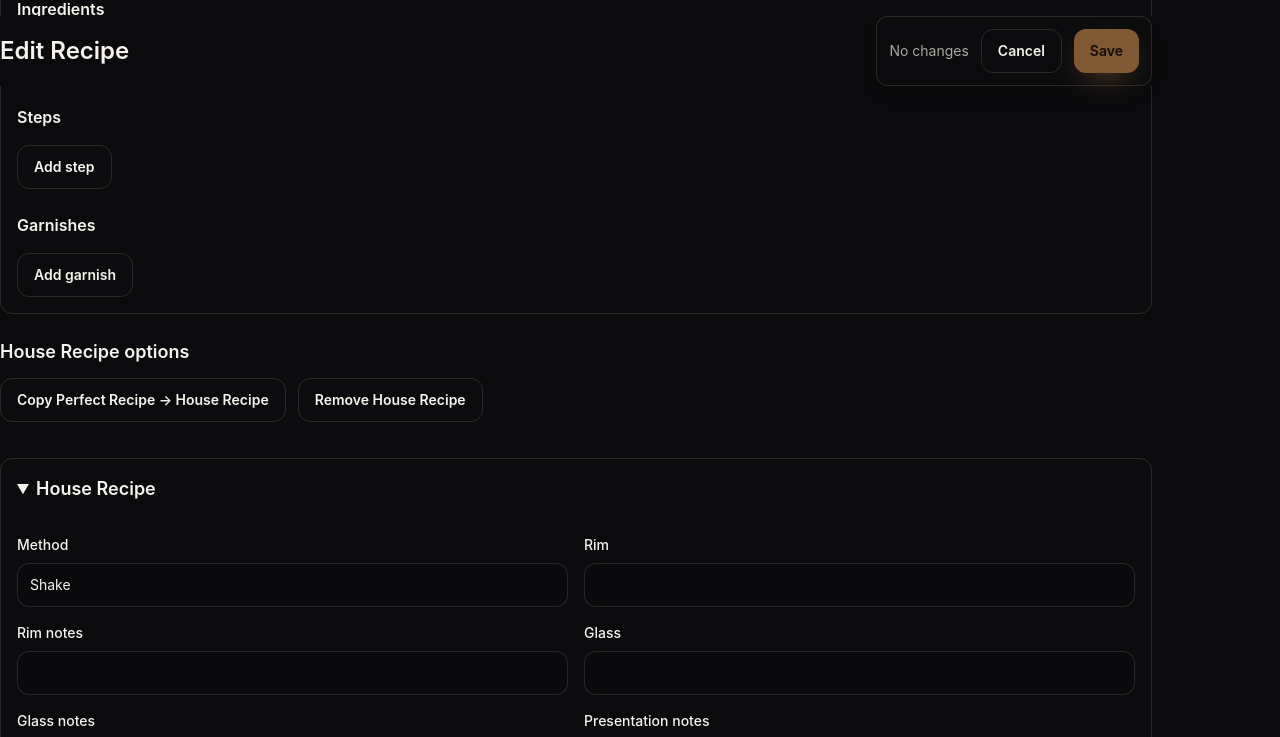
Test case: recipe editor › marks an identical replacement dirty until Save
(page scrolled)
Click the button "Copy Perfect Recipe → House Recipe".
click(143, 400)  # box top-left (0, 378), bottom-right (286, 422)
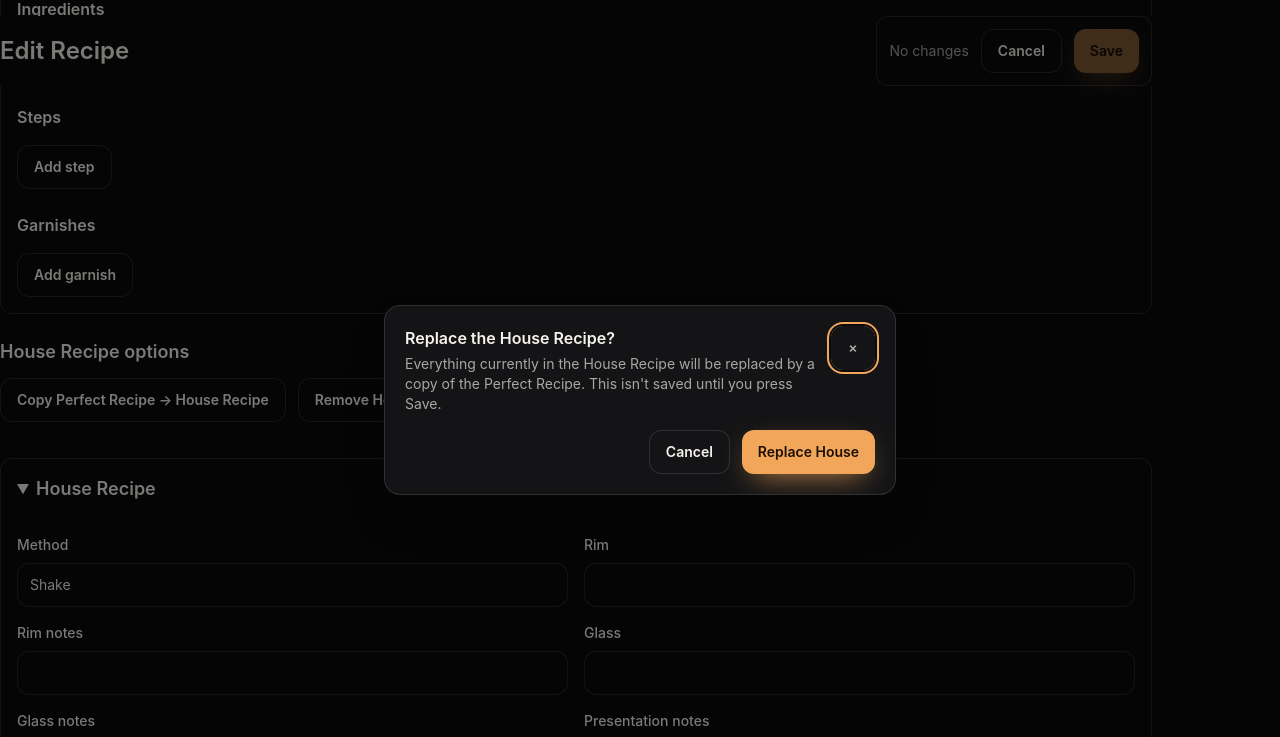
Click the button "Replace House".
click(808, 452)  # box top-left (742, 430), bottom-right (875, 474)
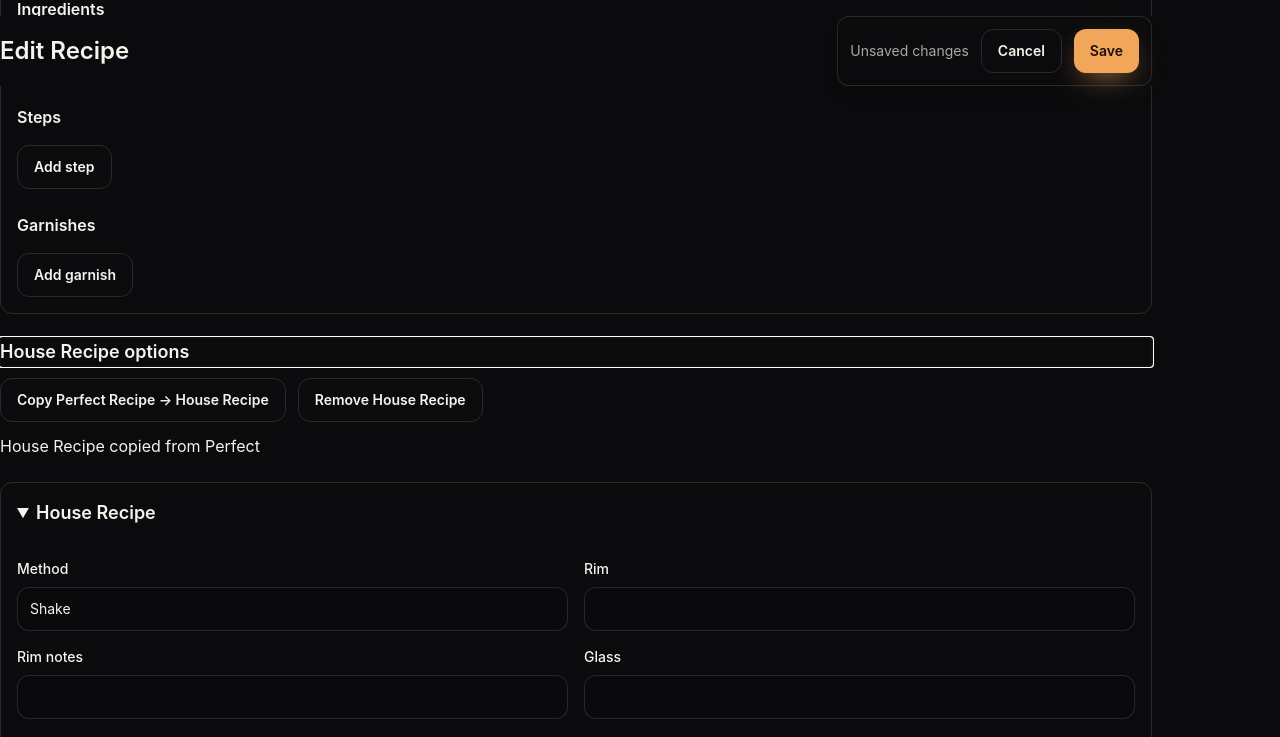
Check: the button "Save" is enabled, box top-left (1074, 29), bottom-right (1139, 73)
Check: the text "Unsaved changes" is shown, box top-left (850, 41), bottom-right (969, 61)
